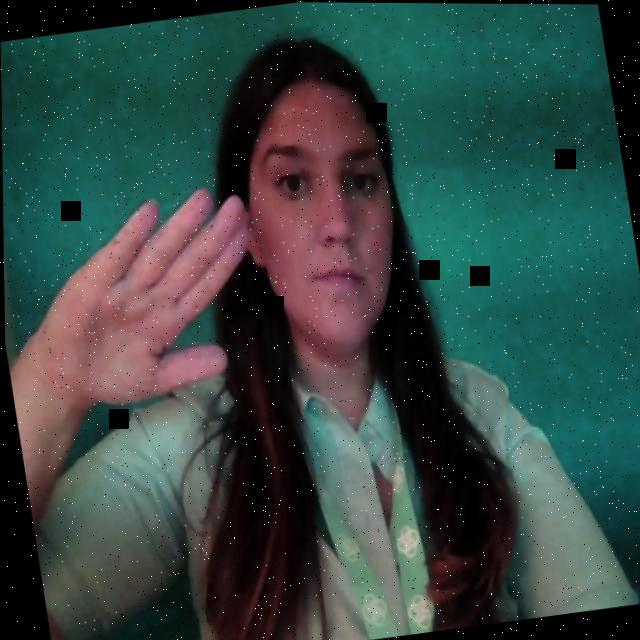Paper: (54, 167, 289, 425)
